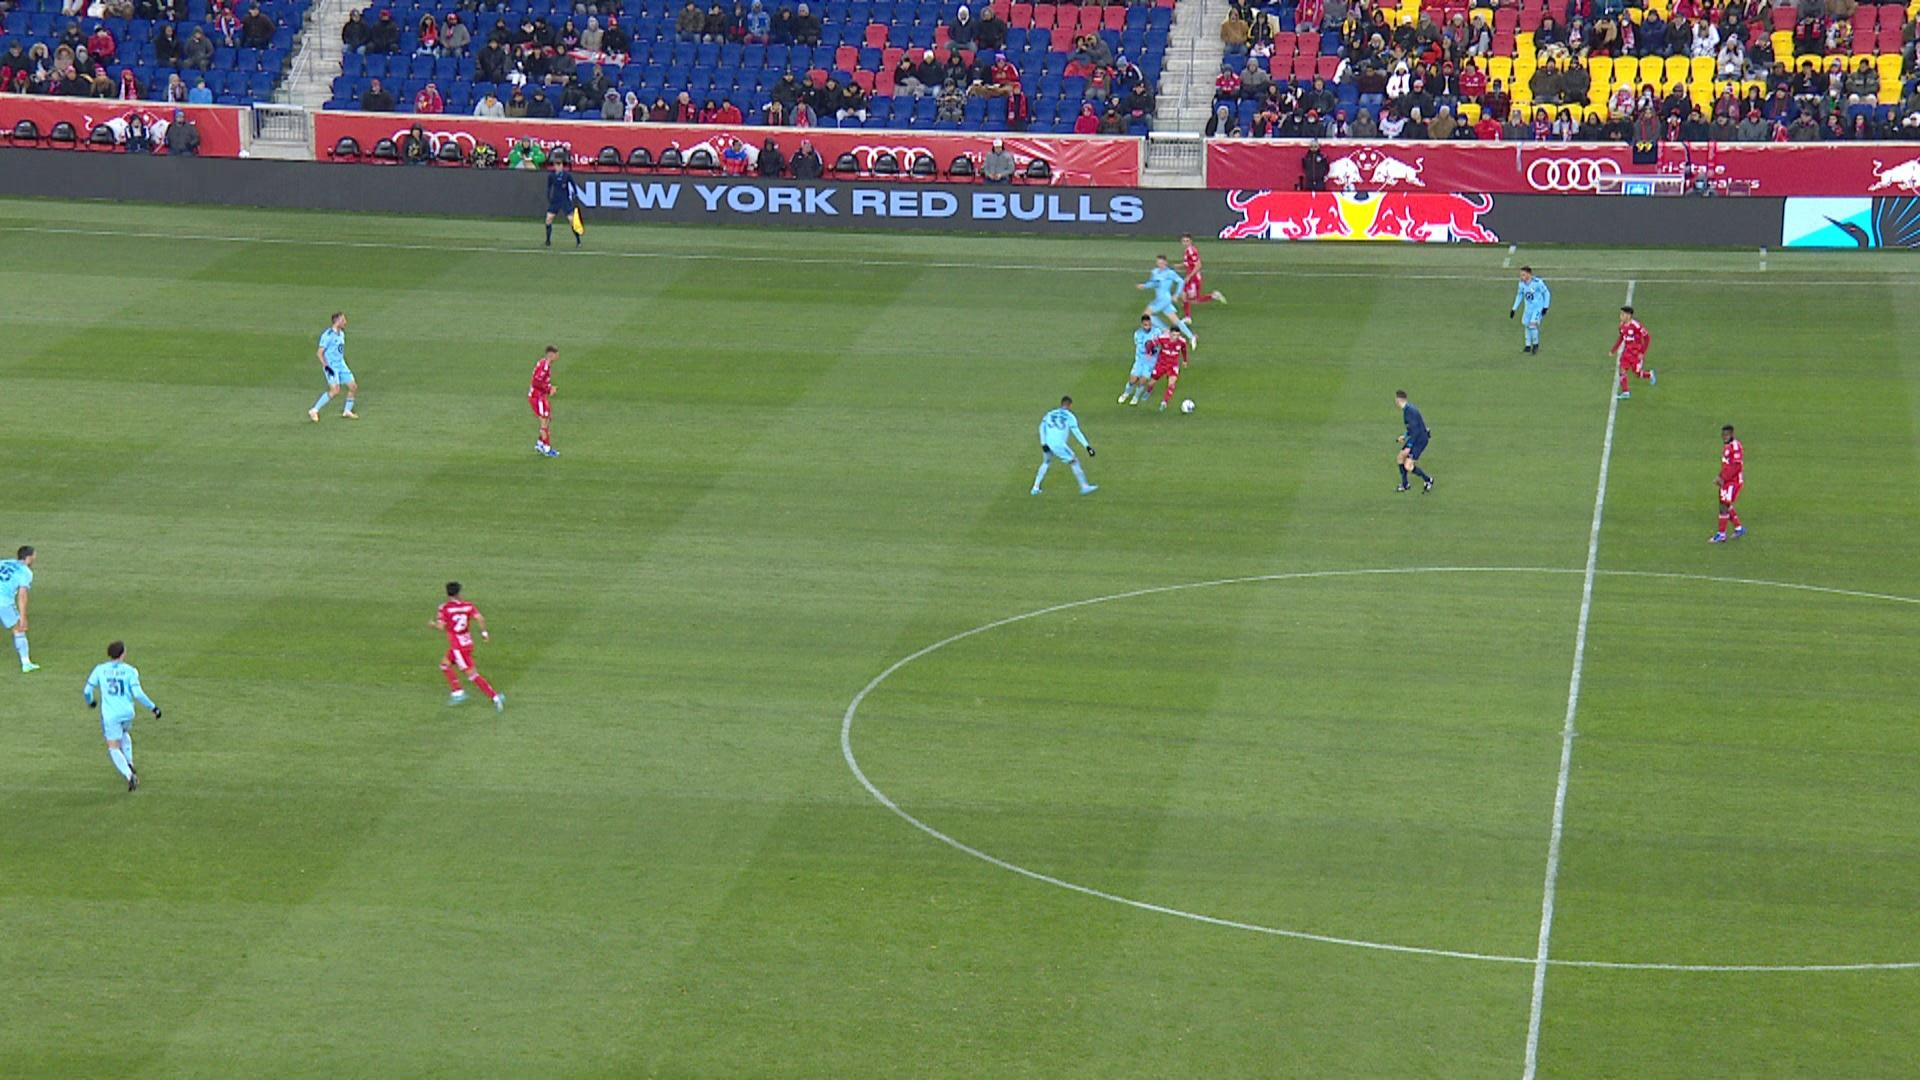football: (1179, 397, 1197, 415)
